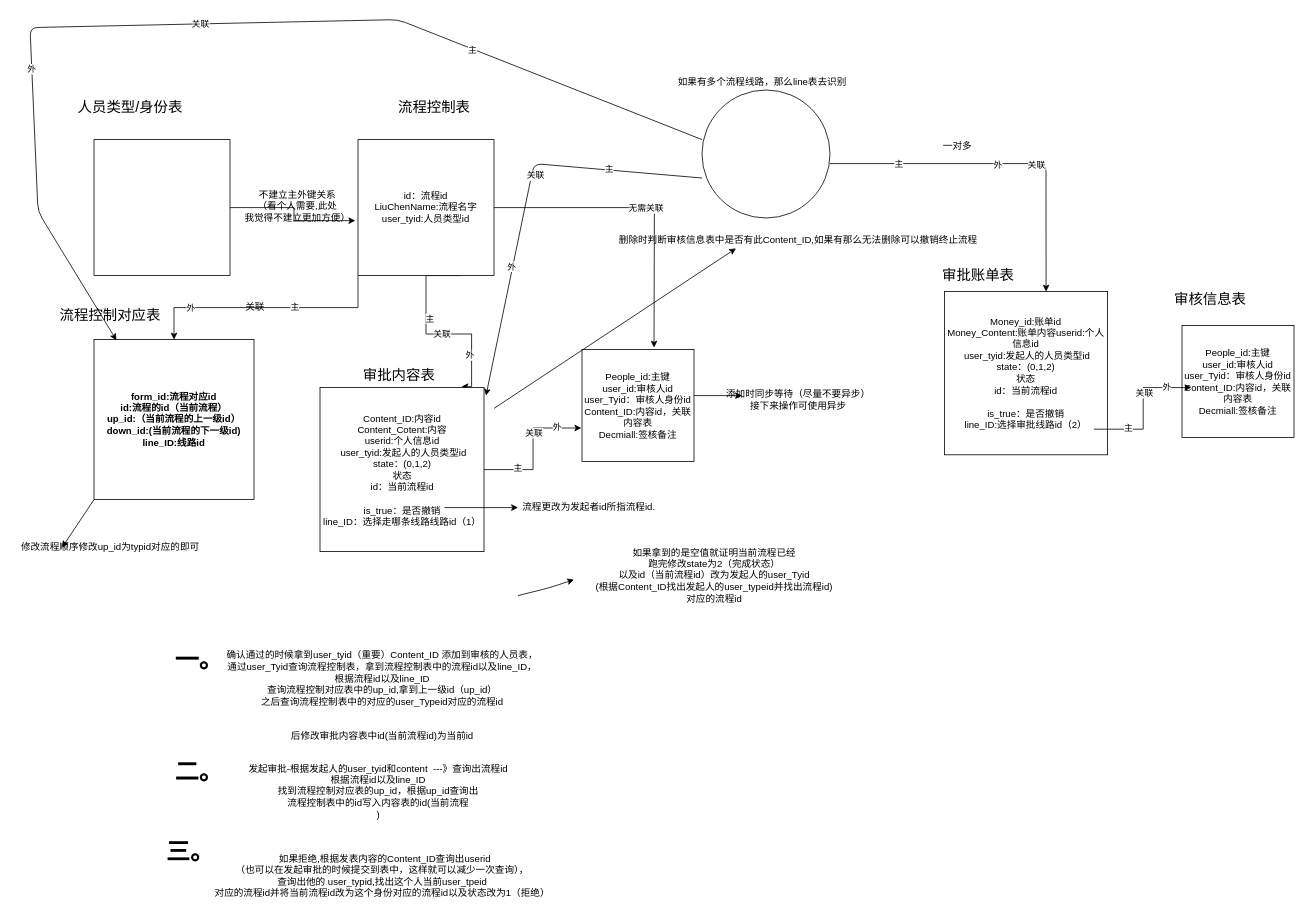
Image size: 1308x914. Some labels were removed from this diagram. The box of each missing label's shape, as (x1, y1, x2, y2) in pixels:
lline_ID:主键 line_Name:名字（审批内容表/审批账单表） lIne_ fo:唯一标识/Id也可用: (701, 89, 830, 218)
user_tyid :人员类型id user_TypeName:类型名称: (93, 139, 230, 276)
